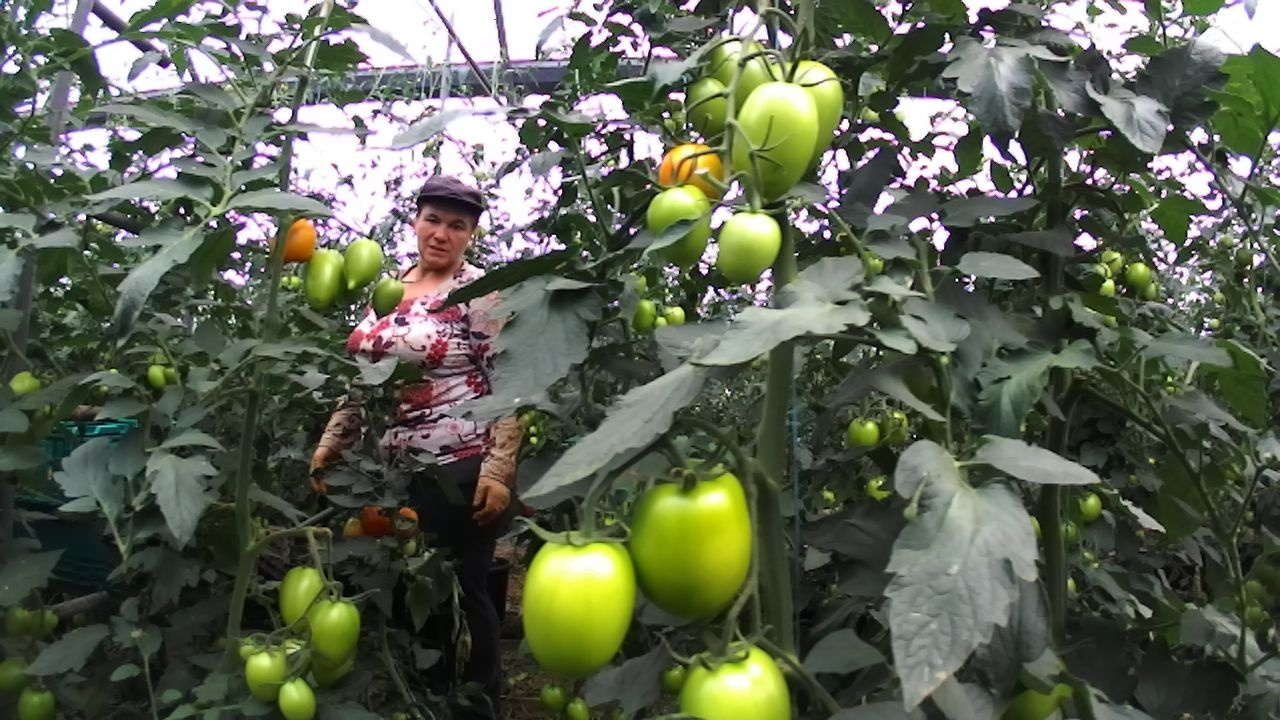tomato: (617, 447, 766, 635), (508, 519, 651, 695), (727, 75, 824, 211), (673, 627, 804, 720), (763, 41, 851, 162), (637, 180, 719, 270), (649, 133, 735, 215), (298, 585, 372, 680), (711, 204, 790, 291), (706, 30, 775, 111), (270, 553, 338, 633), (237, 635, 298, 705), (298, 242, 353, 315), (680, 71, 740, 137), (336, 229, 390, 300), (272, 213, 324, 271), (272, 671, 322, 720), (840, 410, 890, 458), (0, 360, 49, 408), (367, 269, 410, 323), (11, 679, 62, 720), (1069, 486, 1113, 527), (0, 649, 34, 694), (25, 605, 64, 644), (360, 503, 395, 542), (1124, 255, 1158, 295), (628, 294, 657, 338), (659, 298, 691, 335), (556, 694, 600, 720), (142, 359, 175, 393), (2, 602, 32, 639), (536, 682, 569, 713), (1097, 248, 1125, 275)
